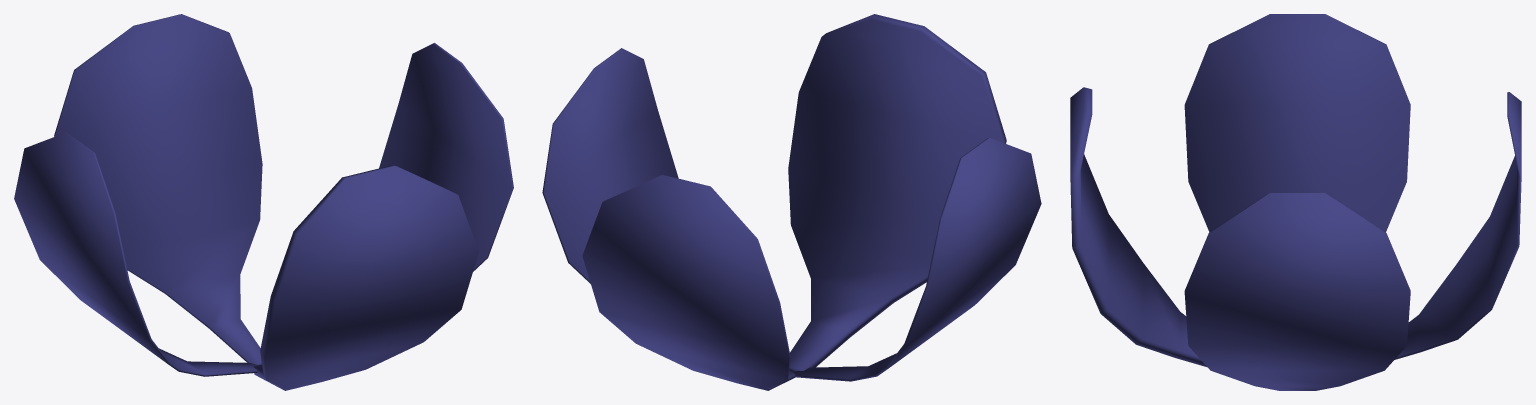
File: Flower_12.fbx
3 renders of one model, left to right at view 1: azimuth 30°, elevation 25°; view 2: azimuth 150°, elevation 25°; view 3: azimuth 270°, elevation 25°, orthographic.
Visible parts, largest first — view 1: Flower_12; view 2: Flower_12; view 3: Flower_12.
Boxes of the visible parts, x1,y1,x2,y2 form: Flower_12: (14, 14, 513, 390); Flower_12: (542, 14, 1041, 390); Flower_12: (1070, 14, 1521, 390).
Bounding box in the file's own units: 31.47 × 21.39 × 31.71.
